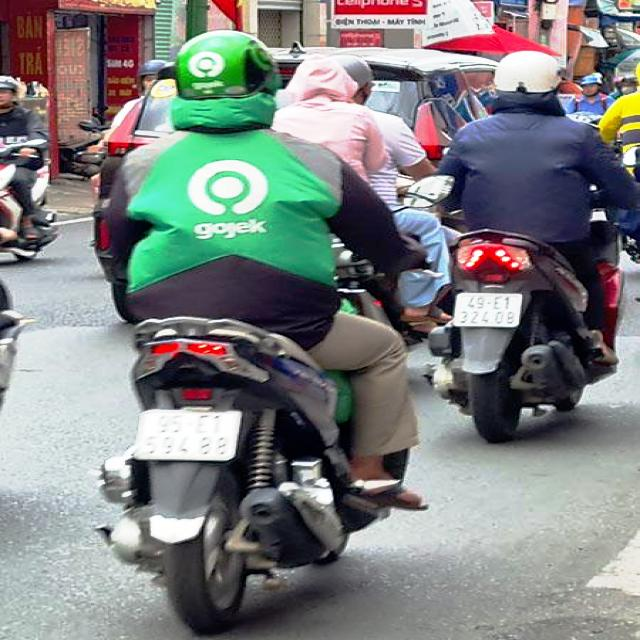license_plate: (136, 409, 240, 460), (453, 295, 523, 328)
